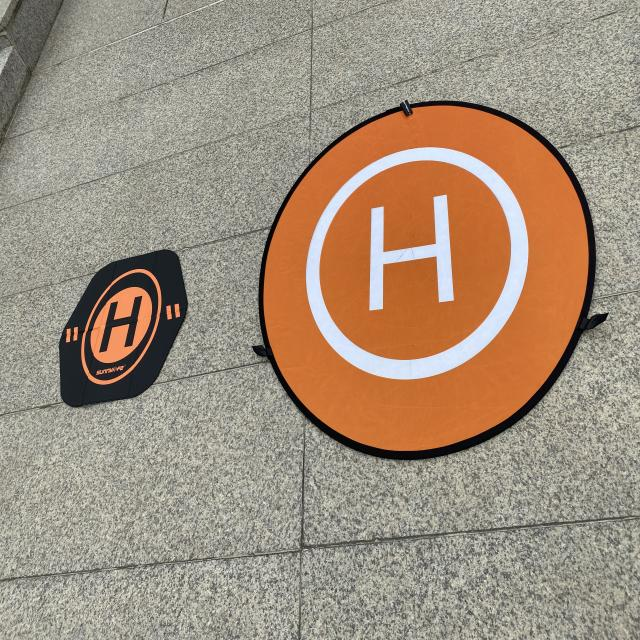helipad: (304, 143, 529, 381), (79, 266, 162, 386)
